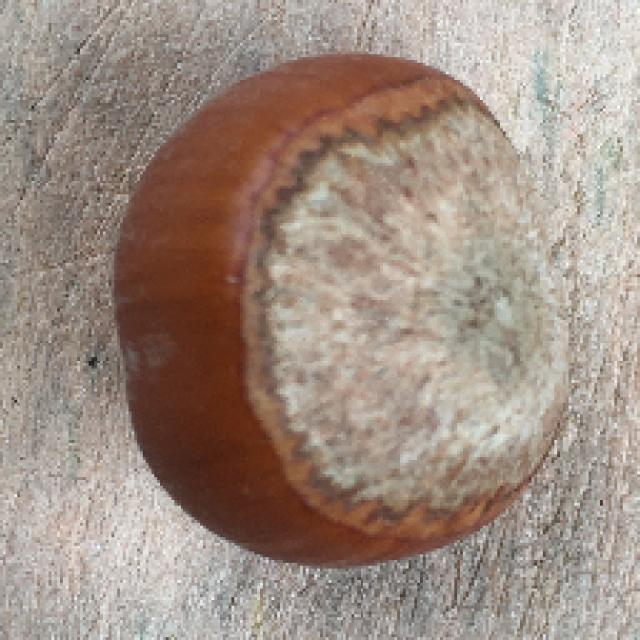qualityHazelnut: (97, 44, 582, 568)
